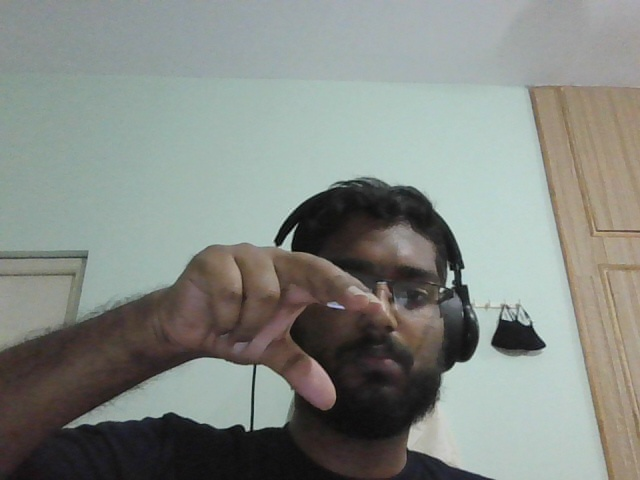No: (156, 206, 406, 443)
